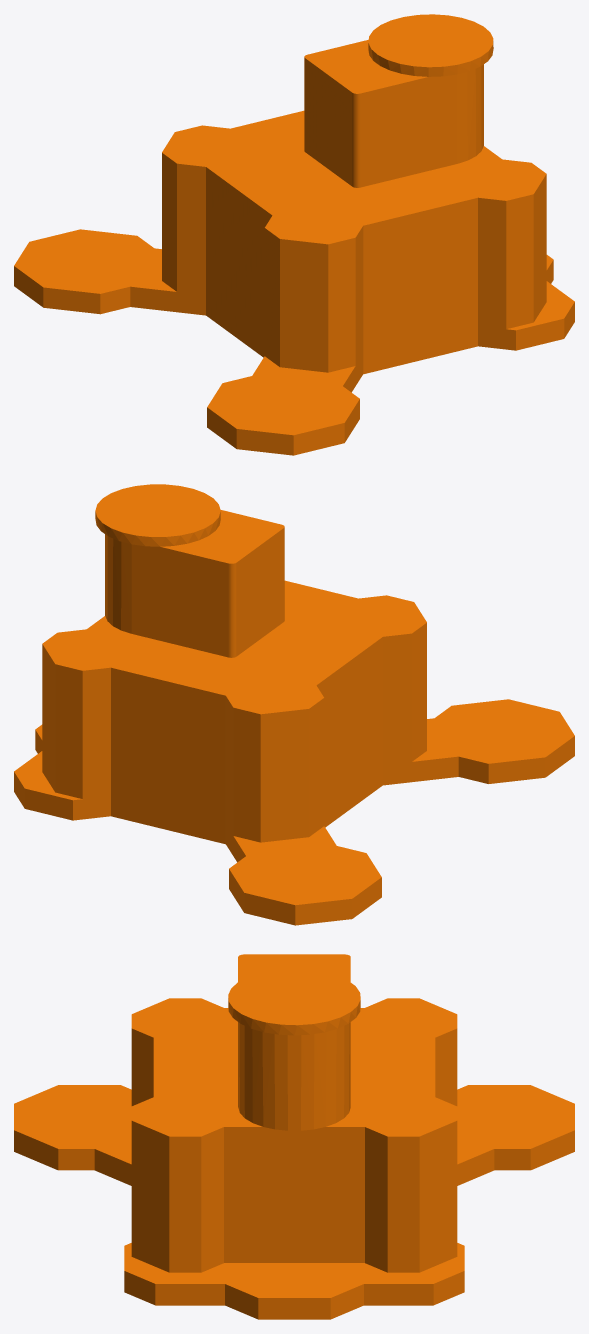
File: simple_base.dae
3 views of the same model, one above another, from view 1: azimuth 30°, elevation 25°; view 2: azimuth 150°, elevation 25°; view 3: azimuth 270°, elevation 25° (orthographic). The views are drawn at different scales.
Parts seen in each view (by area): view 1: node0; view 2: node0; view 3: node0.
Part boxes in pixels (x1,y1,x2,y2): node0: [14, 14, 574, 455]; node0: [14, 484, 574, 925]; node0: [14, 954, 574, 1319].
Bounding box in the file's own units: 0.161 × 0.1792 × 0.0944.
